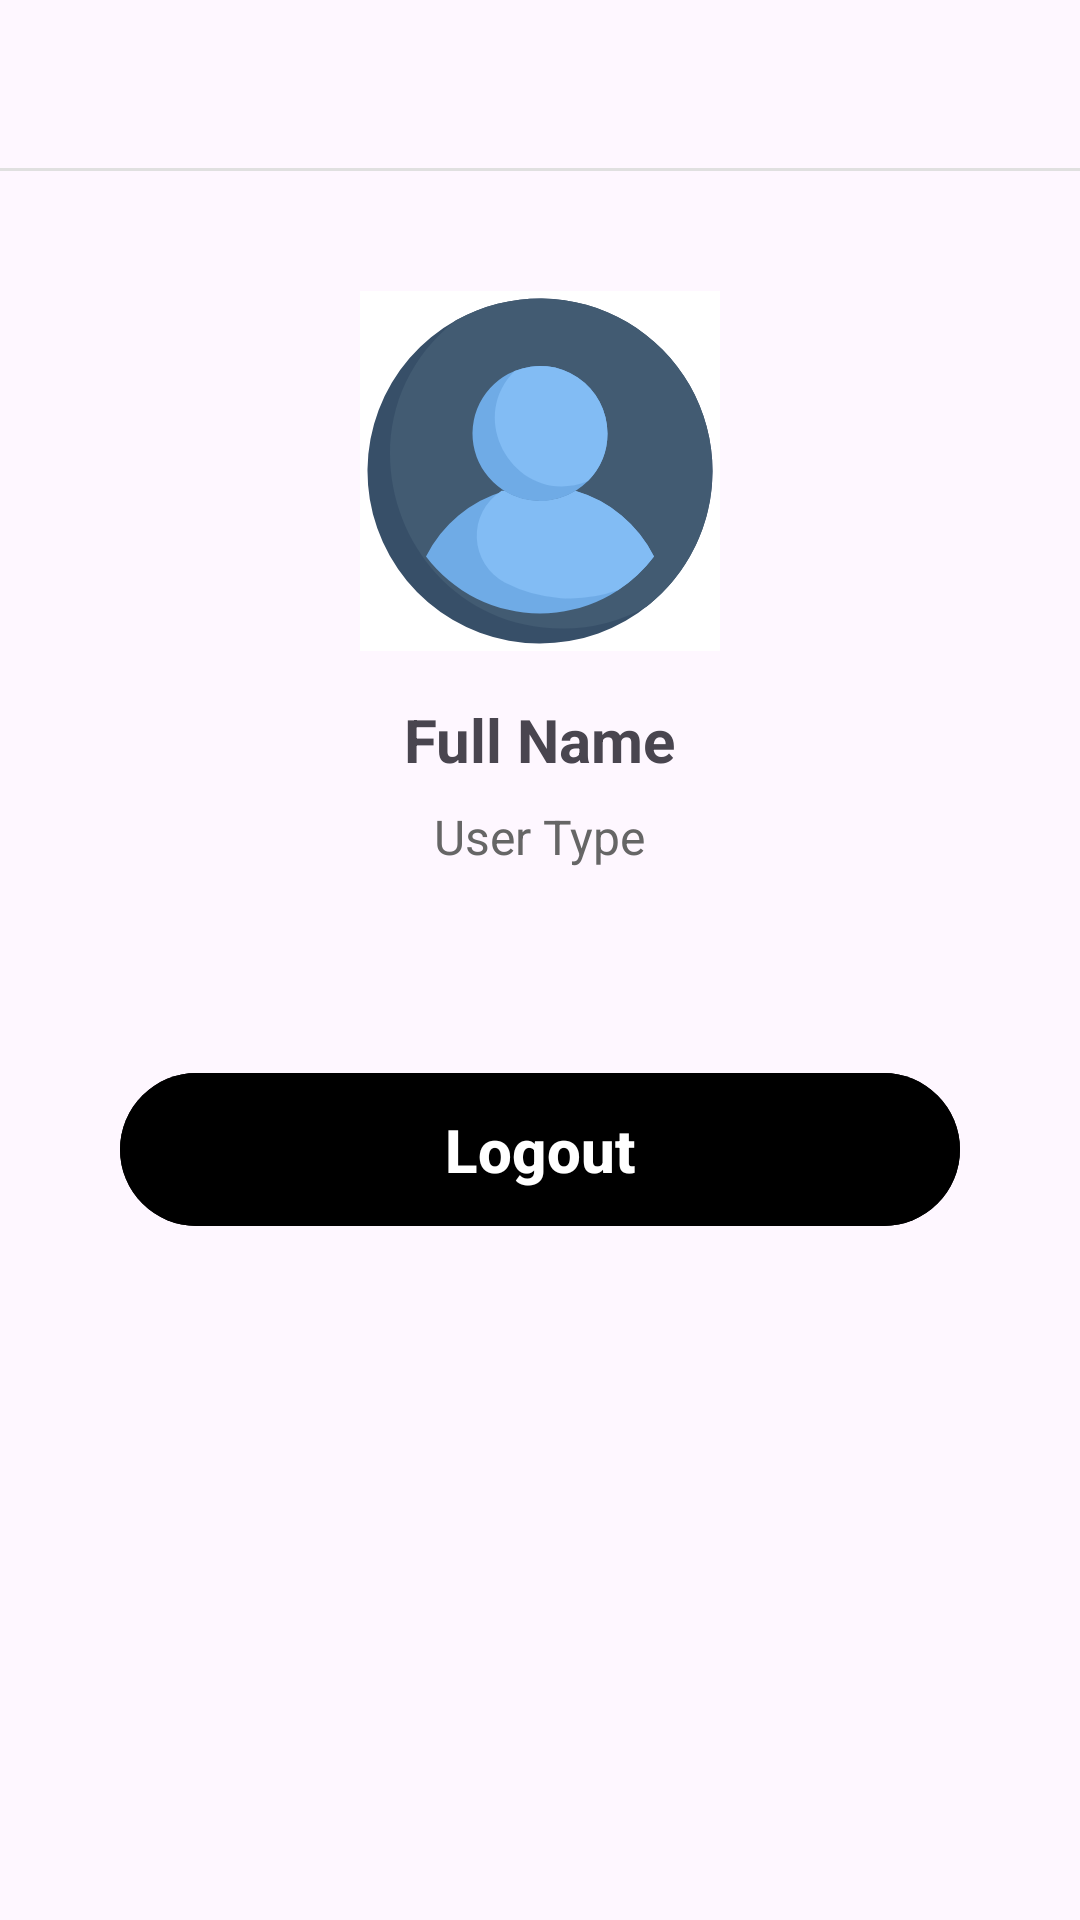

Icons on this 1080x1920 Android screen, each with the point to tap as (x,y):
Profile Picture: (540,471)
